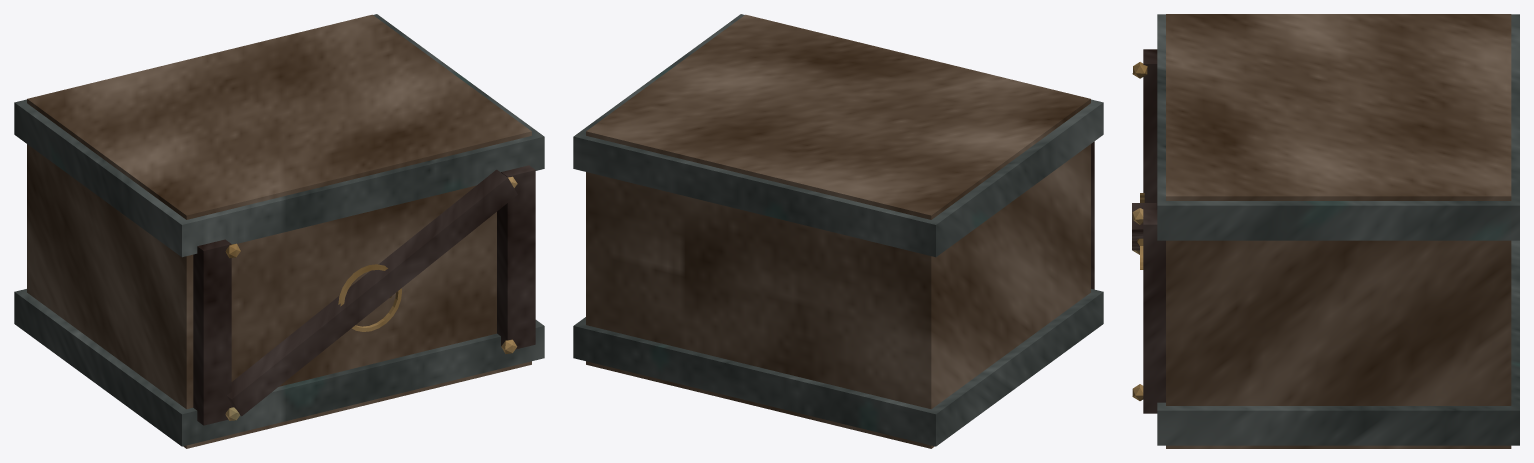
File: 0745_supply_crate_20.glb
3 renders of one model, left to right at view 1: azimuth 30°, elevation 25°; view 2: azimuth 150°, elevation 25°; view 3: azimuth 270°, elevation 25°, orthographic. The views are drawn at different scales.
Visible parts, largest first — view 1: wood, iron, wood_dark, brass; view 2: wood, iron, wood_dark; view 3: wood, iron, wood_dark, brass.
Boxes of the visible parts, x1,y1,x2,y2 form: wood: [27, 14, 531, 448]; iron: [14, 14, 544, 446]; wood_dark: [193, 165, 535, 425]; brass: [225, 176, 517, 420]; wood: [586, 14, 1090, 448]; iron: [573, 14, 1103, 446]; wood_dark: [1091, 141, 1094, 289]; wood: [1166, 14, 1511, 448]; iron: [1157, 14, 1519, 445]; wood_dark: [1132, 49, 1165, 413]; brass: [1132, 62, 1147, 400].
Bounding box in the file's own units: 1.29 × 0.7947 × 1.11.
4 materials, 4 textured.
